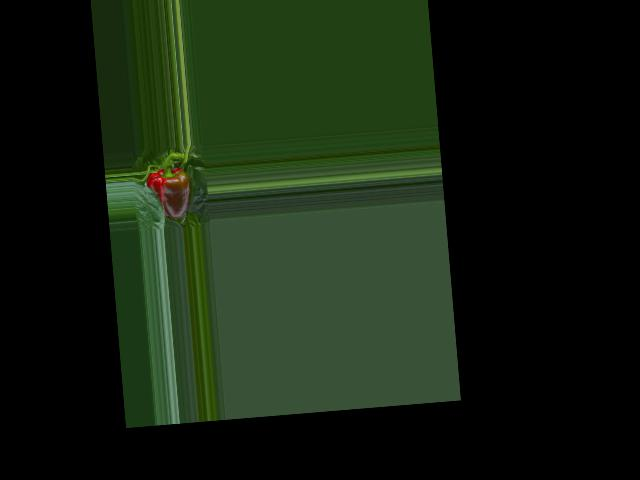bell_pepper: (142, 159, 199, 224)
